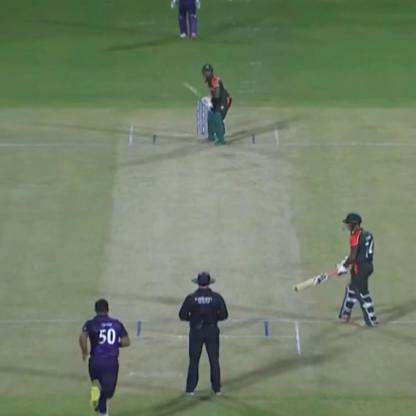bat: (294, 270, 340, 294), (180, 71, 213, 104)
pitch: (109, 125, 307, 358)
